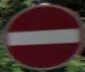No entry: (6, 4, 79, 59)
